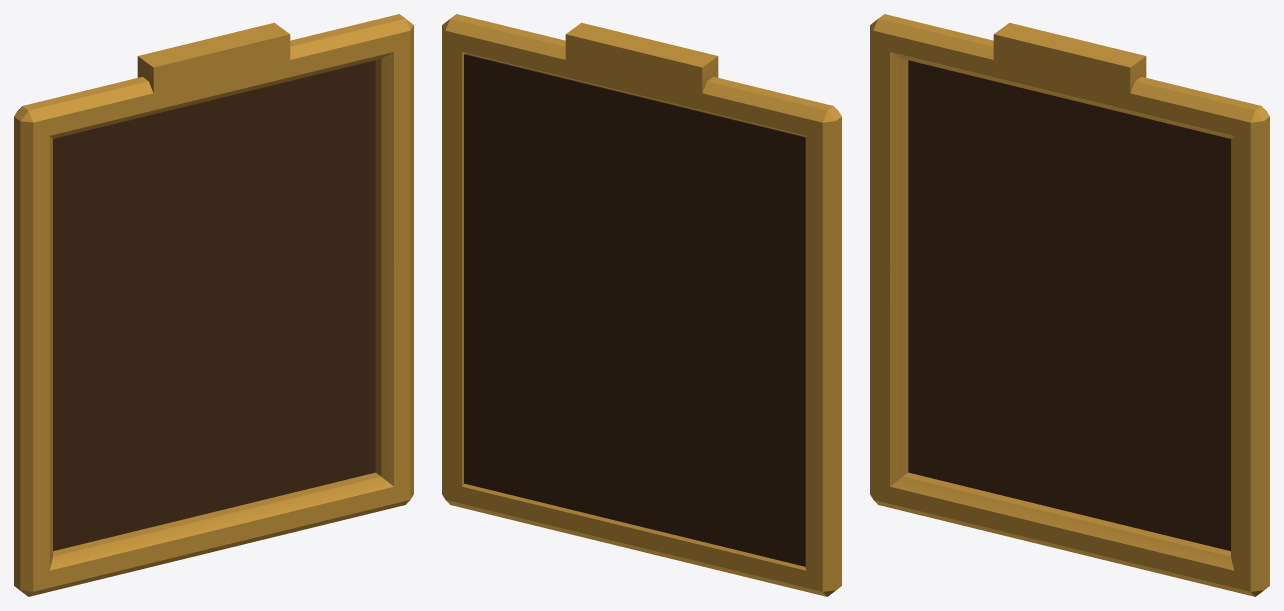
File: portrait_frame.glb
3 views of the same model, side by side, from view 1: azimuth 30°, elevation 25°; view 2: azimuth 150°, elevation 25°; view 3: azimuth 330°, elevation 25° (orthographic).
Parts seen in each view (by area): view 1: portrait_frame; view 2: portrait_frame; view 3: portrait_frame.
Part boxes in pixels (left/top/right/bottom): portrait_frame: left=14, top=14, right=413, bottom=596; portrait_frame: left=442, top=14, right=841, bottom=596; portrait_frame: left=870, top=14, right=1269, bottom=596.
Bounding box in the file's own units: 1.44 × 1.76 × 0.1.
